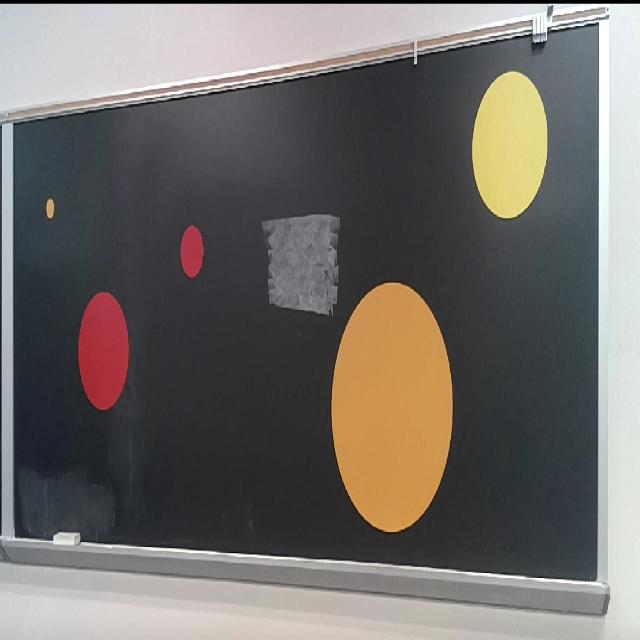Orange: (331, 282, 454, 534), (46, 199, 55, 219)
Red: (77, 290, 129, 410), (180, 225, 204, 278)
Yellow: (472, 72, 548, 220)
